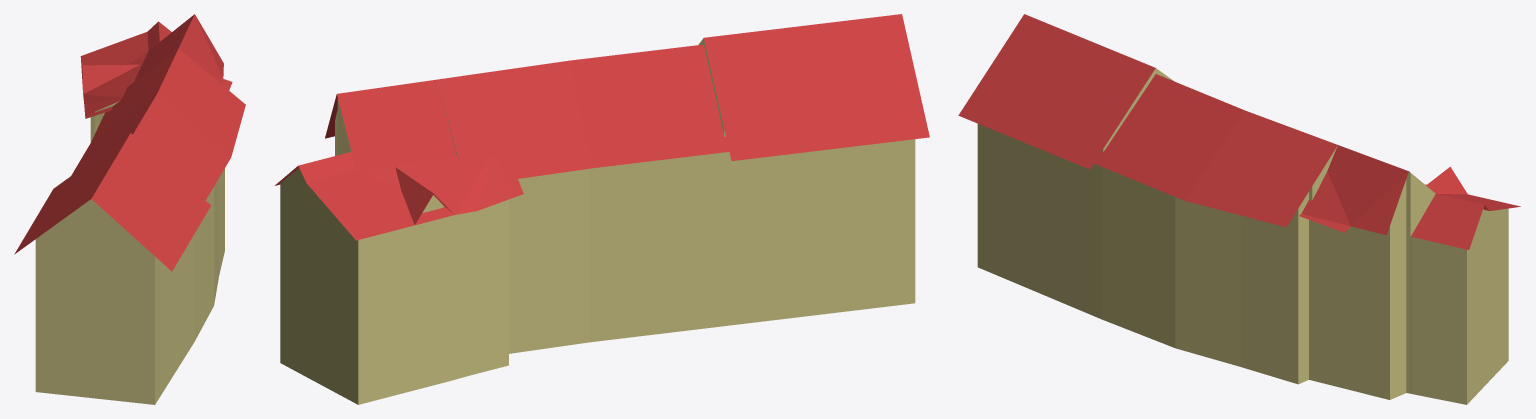
3 views of the same model, side by side, from view 1: azimuth 30°, elevation 25°; view 2: azimuth 150°, elevation 25°; view 3: azimuth 270°, elevation 25° (orthographic). The views are drawn at different scales.
Bounding box in the file's own units: 30.52 × 37.96 × 17.05.
